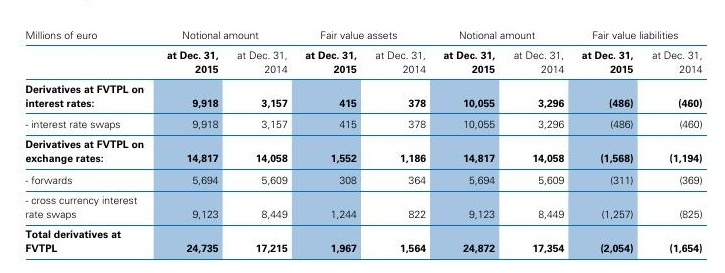table: (0, 0, 725, 273)
